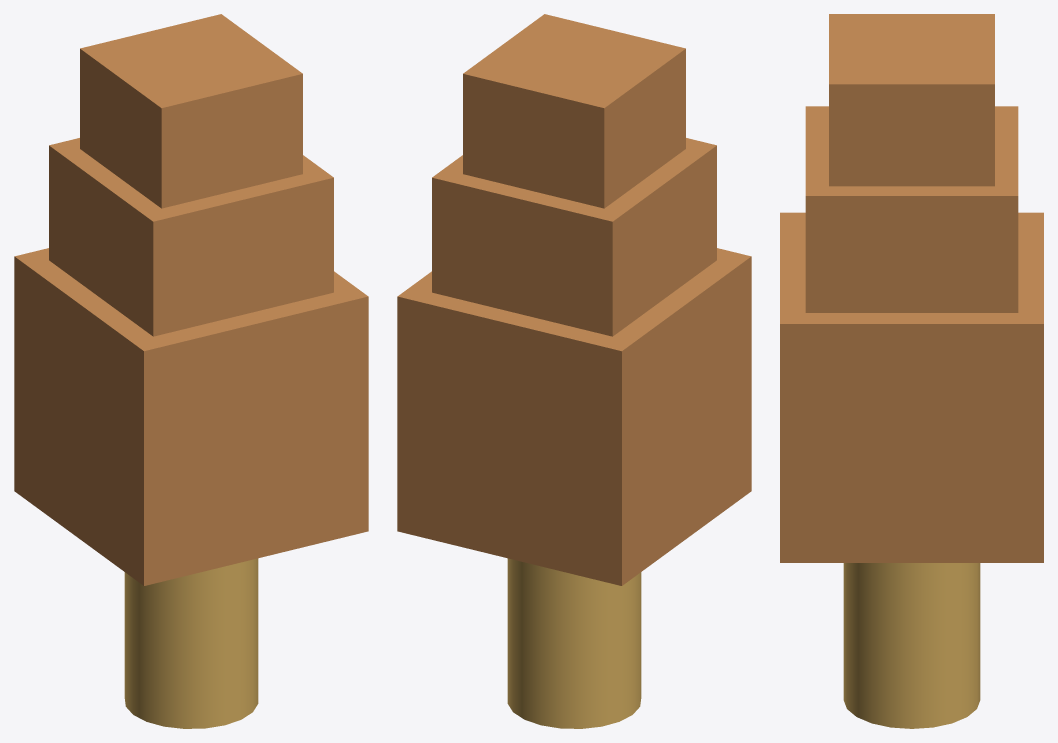
File: cubos_laranja.fbx
3 renders of one model, left to right at view 1: azimuth 30°, elevation 25°; view 2: azimuth 150°, elevation 25°; view 3: azimuth 270°, elevation 25°, orthographic.
Parts seen in each view (by area): view 1: pCube15, pCube14, pCube13, arvore28; view 2: pCube15, pCube14, pCube13, arvore28; view 3: pCube15, pCube14, pCube13, arvore28.
Part boxes in pixels (x1,y1,x2,y2): pCube15: (14, 248, 368, 585); pCube14: (49, 138, 333, 336); pCube13: (80, 14, 302, 208); arvore28: (124, 558, 258, 728); pCube15: (397, 248, 751, 585); pCube14: (432, 138, 716, 336); pCube13: (463, 14, 685, 208); arvore28: (507, 558, 641, 728); pCube15: (780, 212, 1043, 562); pCube14: (805, 106, 1018, 312); pCube13: (829, 14, 994, 186); arvore28: (843, 563, 980, 728).
Size of the model in its own units: 1.1 by 2.98 by 1.1.
